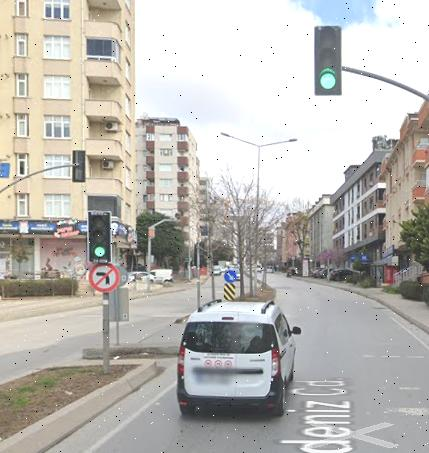greenlight: (314, 25, 343, 95), (86, 211, 111, 261)
leftturnsareforbidden: (90, 265, 119, 291)
